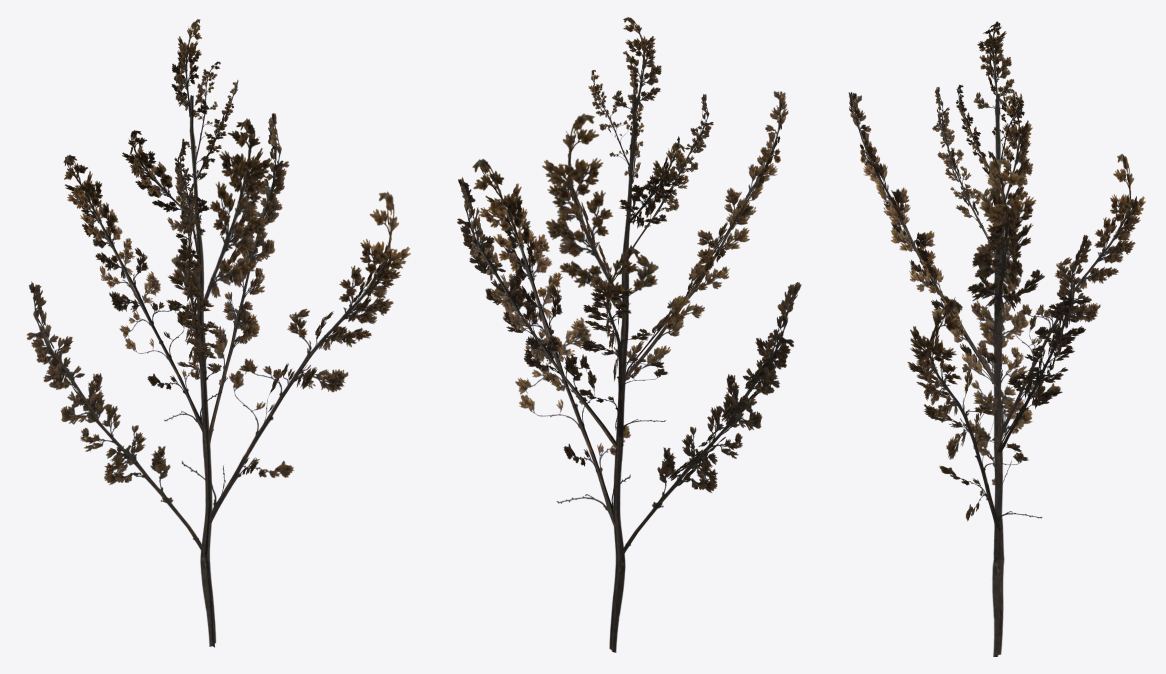
The model's file is dried_sagebrush.glb.
The picture shows the model from 3 angles, left to right: view 1: azimuth 30°, elevation 25°; view 2: azimuth 150°, elevation 25°; view 3: azimuth 270°, elevation 25°; orthographic projection.
Visible parts, largest first — view 1: Object_4; view 2: Object_4; view 3: Object_4.
Part boxes in pixels (<box>): Object_4: <box>27,19,410,647</box>; Object_4: <box>457,17,801,652</box>; Object_4: <box>848,21,1145,656</box>.
Bounding box in the file's own units: 0.5853 × 0.9605 × 0.4234.
1 material, 1 textured.
